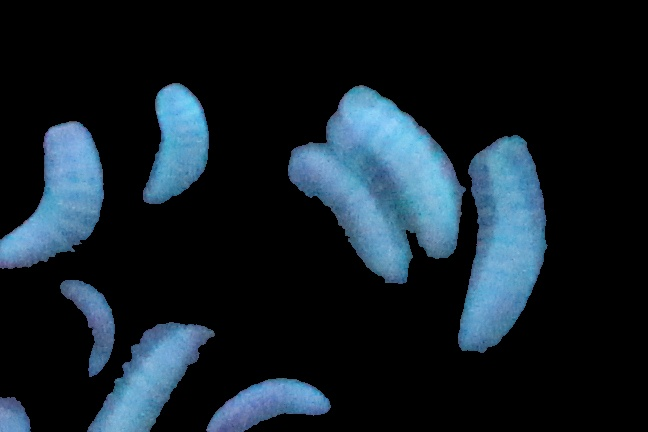larvae: (336, 85, 461, 258), (456, 136, 544, 353), (289, 142, 411, 284), (1, 116, 104, 282), (86, 323, 215, 432), (141, 81, 213, 210), (203, 376, 332, 431), (64, 283, 113, 381)
